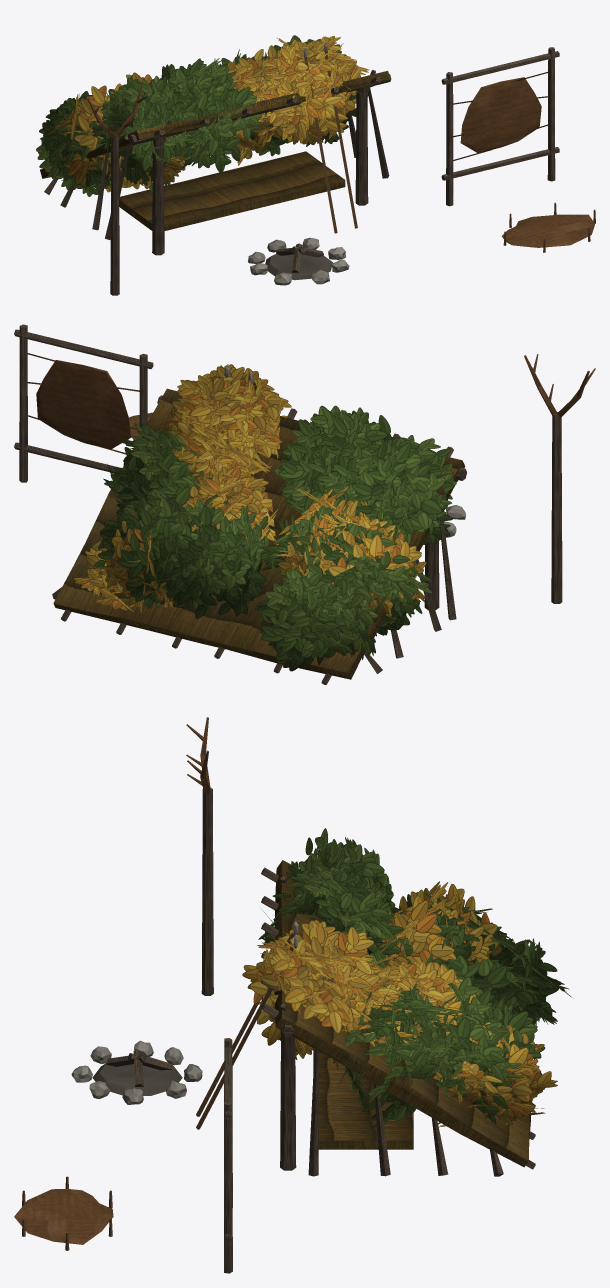
The model's file is posta_caccia.glb.
The picture shows the model from 3 angles, top to bottom: view 1: azimuth 30°, elevation 25°; view 2: azimuth 150°, elevation 25°; view 3: azimuth 270°, elevation 25°; orthographic projection. The views are drawn at different scales.
Parts seen in each view (by area): view 1: posta_caccia; view 2: posta_caccia; view 3: posta_caccia.
Boxes of the visible parts, left/top/right/bottom form: posta_caccia: left=36, top=35, right=595, bottom=295; posta_caccia: left=14, top=324, right=595, bottom=684; posta_caccia: left=14, top=717, right=573, bottom=1273.
Bounding box in the file's own units: 7.06 × 2.85 × 5.8.
Materials: 10 (10 with a texture image).
